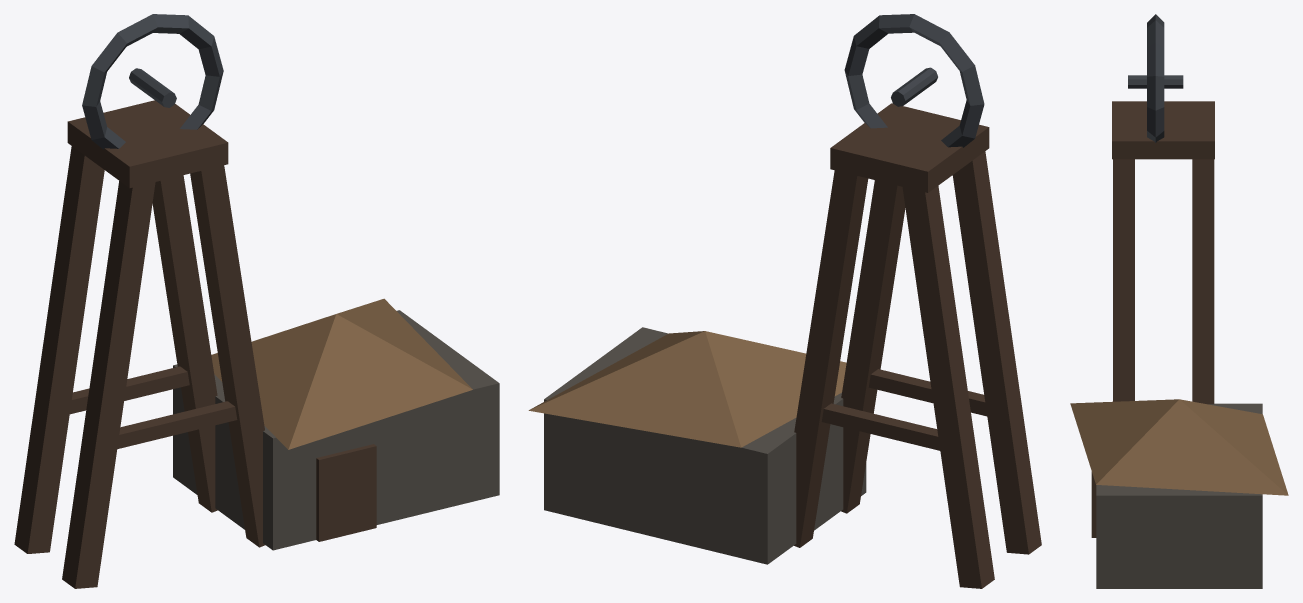
File: era2-colliery-BsVdxHnl.glb
The picture shows the model from 3 angles, left to right: view 1: azimuth 30°, elevation 25°; view 2: azimuth 150°, elevation 25°; view 3: azimuth 270°, elevation 25°; orthographic projection. The views are drawn at different scales.
Parts seen in each view (by area): view 1: CollieryHeadframe_Shed, CollieryHeadframe_ShedRoof, CollieryHeadframe_LegFL, CollieryHeadframe_LegBL, CollieryHeadframe_LegFR, CollieryHeadframe_LegBR, CollieryHeadframe_Deck, CollieryHeadframe_Wheel, CollieryHeadframe_ShedDoor, CollieryHeadframe_BraceF, CollieryHeadframe_BraceB, CollieryHeadframe_WheelAxle; view 2: CollieryHeadframe_Shed, CollieryHeadframe_ShedRoof, CollieryHeadframe_LegBL, CollieryHeadframe_LegFL, CollieryHeadframe_LegBR, CollieryHeadframe_LegFR, CollieryHeadframe_Deck, CollieryHeadframe_Wheel, CollieryHeadframe_BraceB, CollieryHeadframe_BraceF, CollieryHeadframe_WheelAxle; view 3: CollieryHeadframe_Shed, CollieryHeadframe_ShedRoof, CollieryHeadframe_LegBR, CollieryHeadframe_Deck, CollieryHeadframe_LegFR, CollieryHeadframe_Wheel, CollieryHeadframe_WheelAxle, CollieryHeadframe_ShedDoor.
Part boxes in pixels (x1,y1,x2,y2): CollieryHeadframe_Shed: (173,310,499,550); CollieryHeadframe_ShedRoof: (211,298,472,449); CollieryHeadframe_LegFL: (62,181,155,588); CollieryHeadframe_LegBL: (14,146,104,553); CollieryHeadframe_LegFR: (190,165,265,547); CollieryHeadframe_LegBR: (152,175,217,512); CollieryHeadframe_Deck: (67,100,228,188); CollieryHeadframe_Wheel: (82,14,223,149); CollieryHeadframe_ShedDoor: (316,444,376,541); CollieryHeadframe_BraceF: (117,401,237,448); CollieryHeadframe_BraceB: (70,366,189,414); CollieryHeadframe_WheelAxle: (129,68,176,107); CollieryHeadframe_Shed: (544,327,866,564); CollieryHeadframe_ShedRoof: (528,331,846,447); CollieryHeadframe_LegBL: (902,186,994,588); CollieryHeadframe_LegFL: (952,151,1041,554); CollieryHeadframe_LegBR: (794,170,868,547); CollieryHeadframe_LegFR: (841,180,905,513); CollieryHeadframe_Deck: (830,103,989,192); CollieryHeadframe_Wheel: (844,14,984,147); CollieryHeadframe_BraceB: (821,403,940,450); CollieryHeadframe_BraceF: (868,369,987,416); CollieryHeadframe_WheelAxle: (891,67,937,106); CollieryHeadframe_Shed: (1096,403,1262,588); CollieryHeadframe_ShedRoof: (1070,399,1288,495); CollieryHeadframe_LegBR: (1192,159,1214,404); CollieryHeadframe_Deck: (1112,101,1214,159); CollieryHeadframe_LegFR: (1113,159,1134,401); CollieryHeadframe_Wheel: (1147,14,1164,142); CollieryHeadframe_WheelAxle: (1128,75,1183,88); CollieryHeadframe_ShedDoor: (1091,472,1096,537).
Bounding box in the file's own units: 10.07 × 12.41 × 5.52.
